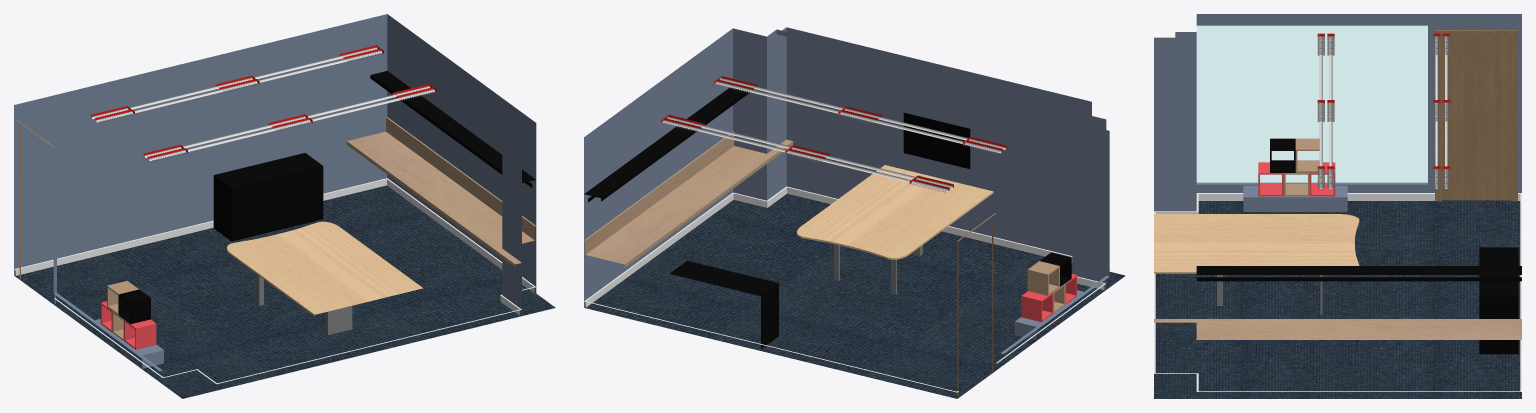
3 views of the same model, side by side, from view 1: azimuth 30°, elevation 25°; view 2: azimuth 150°, elevation 25°; view 3: azimuth 270°, elevation 25° (orthographic). The views are drawn at different scales.
Visible parts, largest first — view 1: Parede1, Chao, Parede2, Mesa, Bancada, Armario, lampadas, roda pe, Parede3, Bancada Top, Luminaria, Parede4 (+6 smaller); view 2: Chao, Parede3, Parede2, Mesa, Bancada, Parede4, lampadas, roda pe, Bancada Top, Armario, Tv, Luminaria (+7 smaller); view 3: Chao, Janela, Porta, Mesa, Parede4, Parede3, Bancada, Bancada Top, Armario, lampadas, roda pe, Base Cubos (+7 smaller).
Boxes of the visible parts, x1,y1,x2,y2 form: Parede1: (14,14,387,275); Chao: (14,185,555,398); Parede2: (387,14,536,292); Mesa: (227,221,422,316); Bancada: (346,117,535,267); Armario: (213,153,323,241); lampadas: (92,47,434,161); roda pe: (14,178,535,384); Parede3: (502,131,521,315); Bancada Top: (370,71,535,187); Luminaria: (91,45,436,158); Parede4: (53,147,162,371); Chao: (584,193,1125,398); Parede3: (767,27,1091,255); Parede2: (584,28,766,307); Mesa: (797,165,993,259); Bancada: (584,131,793,267); Parede4: (1001,111,1109,353); lampadas: (662,77,1005,191); roda pe: (584,186,1105,392); Bancada Top: (584,87,749,202); Armario: (669,260,778,348); Tv: (903,112,970,168); Luminaria: (661,76,1006,190); Chao: (1154,200,1521,398); Janela: (1197,26,1427,182); Porta: (1435,30,1517,201); Mesa: (1154,214,1359,273); Parede4: (1196,14,1521,192); Parede3: (1154,32,1196,211); Bancada: (1154,319,1521,339); Bancada Top: (1196,266,1521,281); Armario: (1479,247,1518,354); lampadas: (1319,36,1448,188); roda pe: (1154,193,1521,391); Base Cubos: (1243,185,1347,211).
Size of the model in its own units: 5.55 by 2.45 by 4.3.
16 materials, 4 textured.
